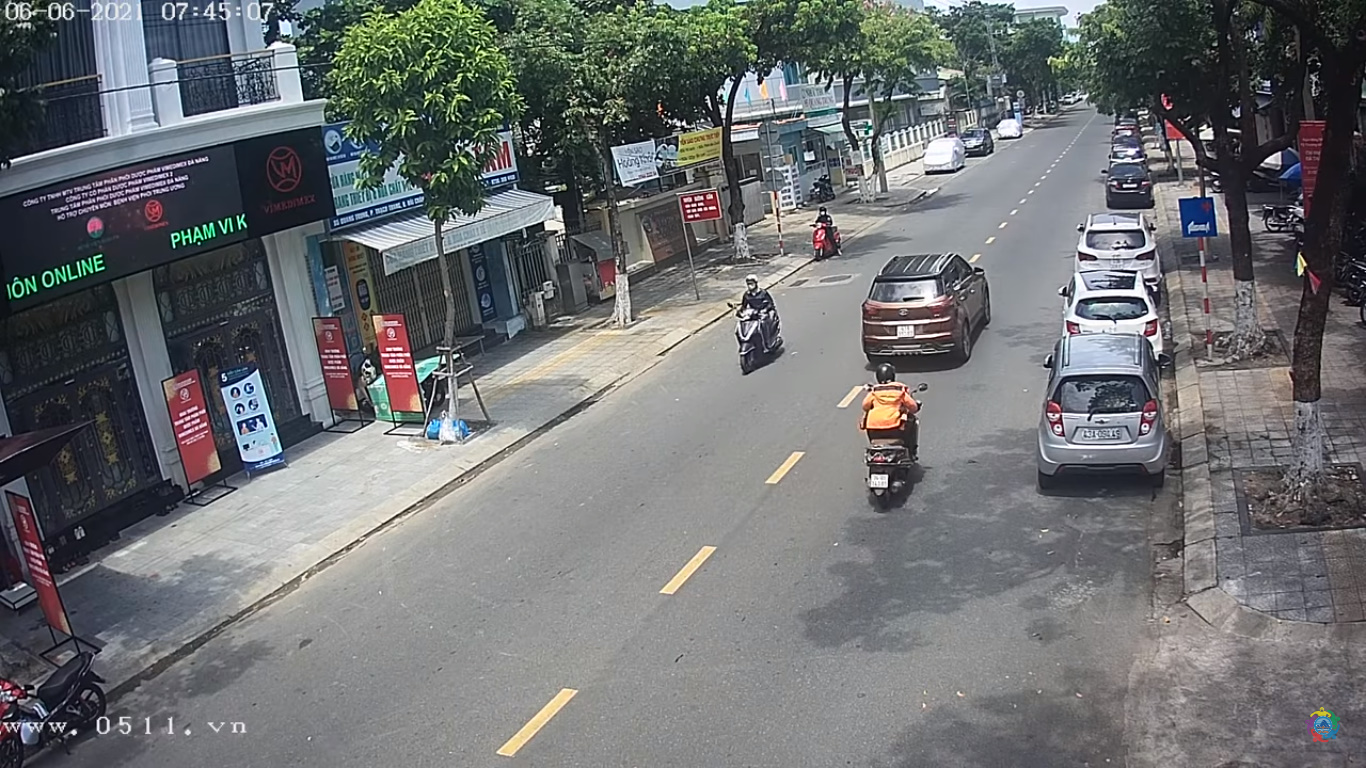car: (860, 247, 991, 373)
